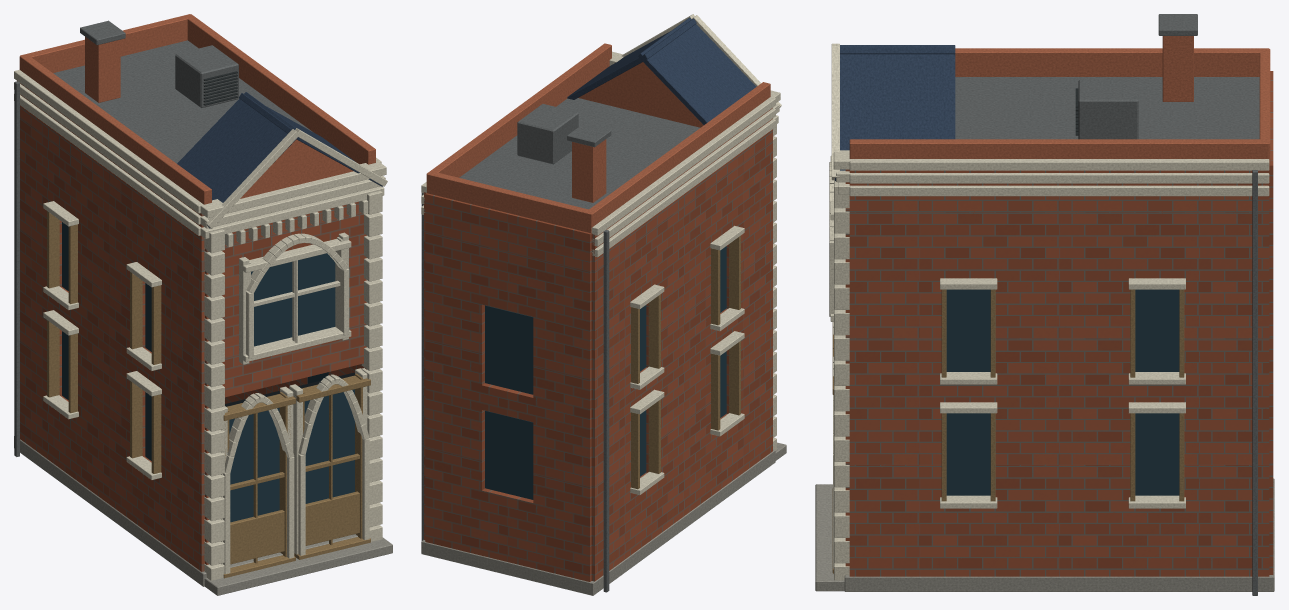
Rendered from CLSTGA17_lod1.glb.
3 renders of one model, left to right at view 1: azimuth 30°, elevation 25°; view 2: azimuth 150°, elevation 25°; view 3: azimuth 270°, elevation 25°, orthographic. The views are drawn at different scales.
Visible parts, largest first — view 1: CLSTGA17_LOD1; view 2: CLSTGA17_LOD1; view 3: CLSTGA17_LOD1.
Boxes of the visible parts, box(x1,y1,x2,y2) form: CLSTGA17_LOD1: box(14, 14, 392, 595); CLSTGA17_LOD1: box(421, 14, 786, 595); CLSTGA17_LOD1: box(815, 14, 1274, 595).
Size of the model in its own units: 3.71 by 7.86 by 6.57.
10 materials, 8 textured.
